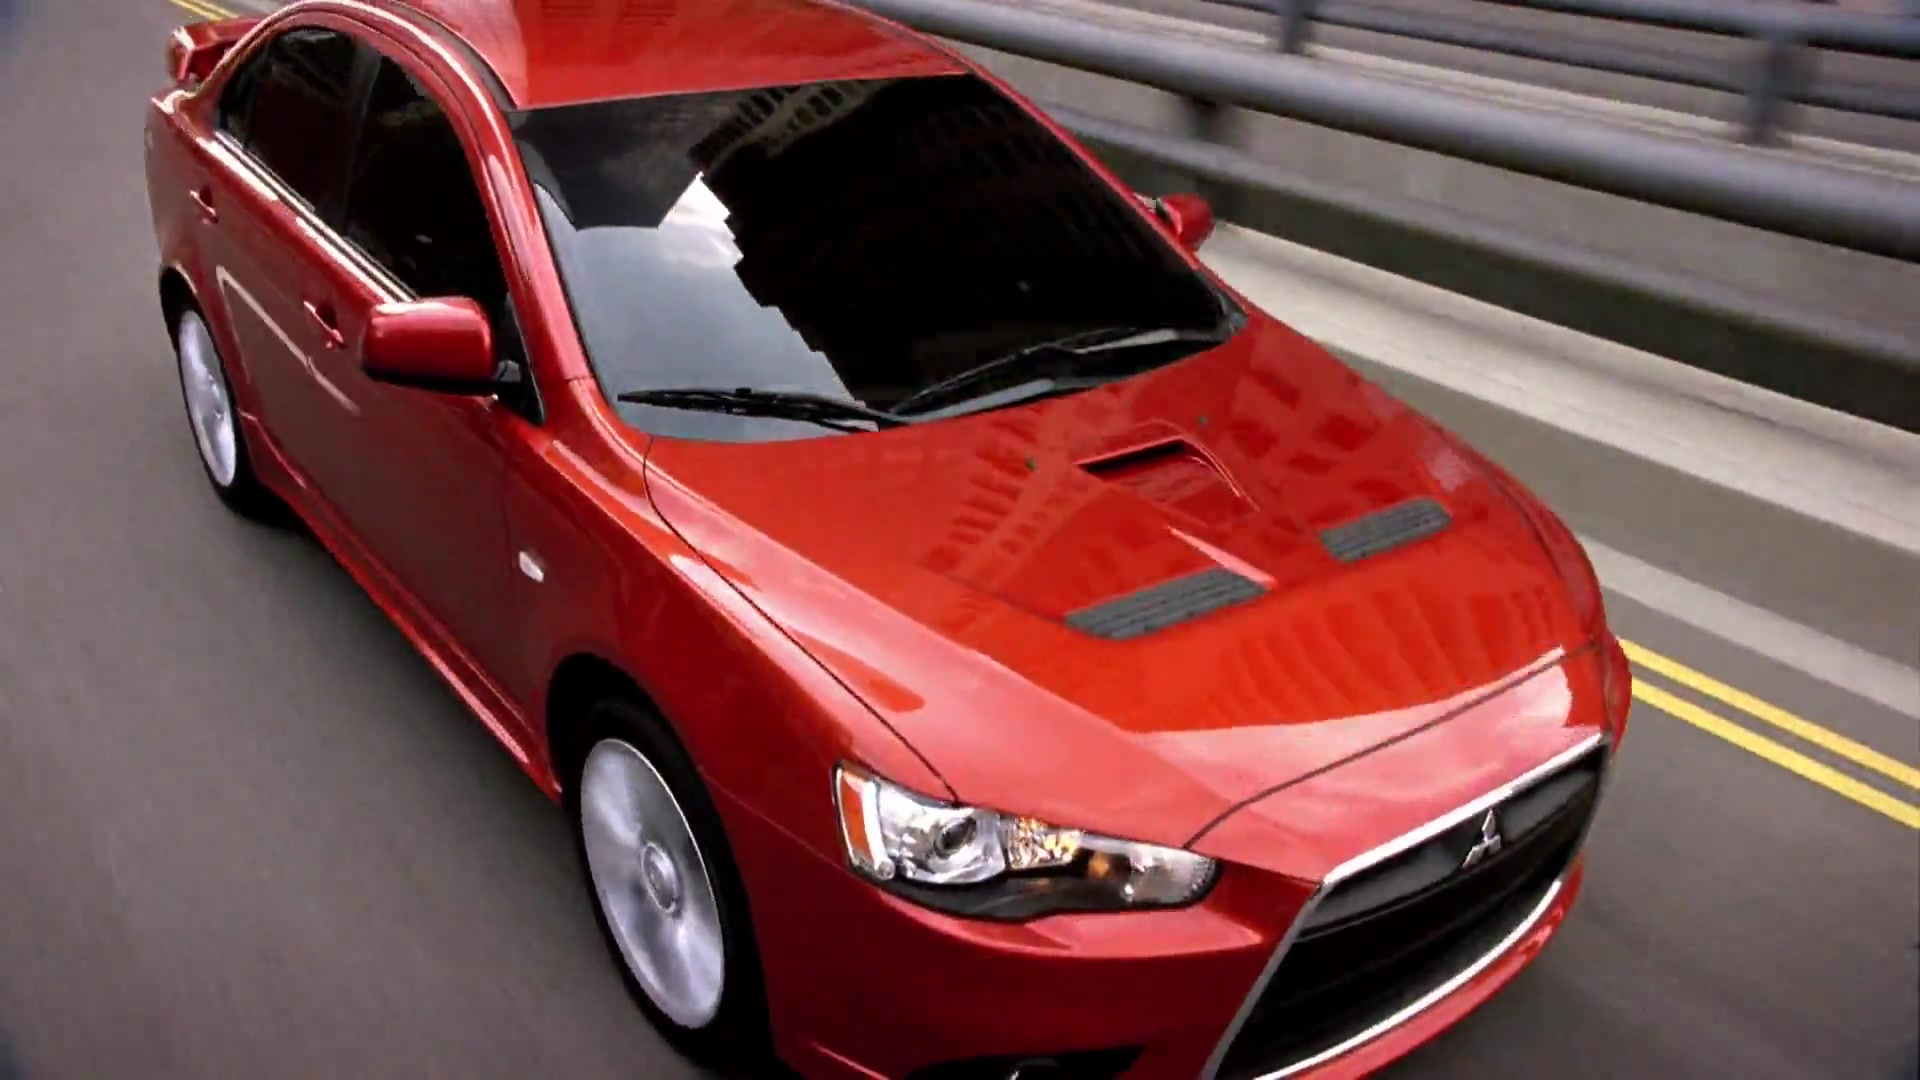car: (142, 5, 1638, 1080)
